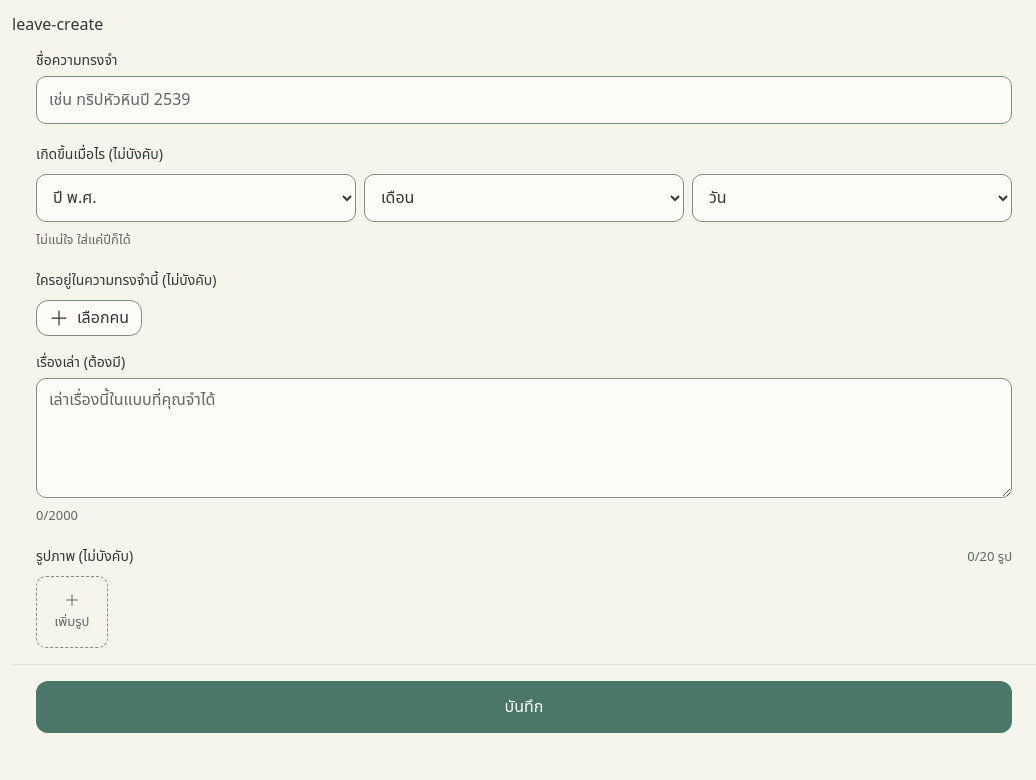
Test: CreateMemoryPage › shows required copy and does not save when title and story are empty
This screenshot has width=1036, height=780.
Expected: the field labelled "ชื่อความทรงจำ" is shown, [36,76,1012,124]
What coordinates should you click on to do the following:
click the button "บันทึก"
I would click on:
 (524, 707)
Its box is [36,681,1012,733].
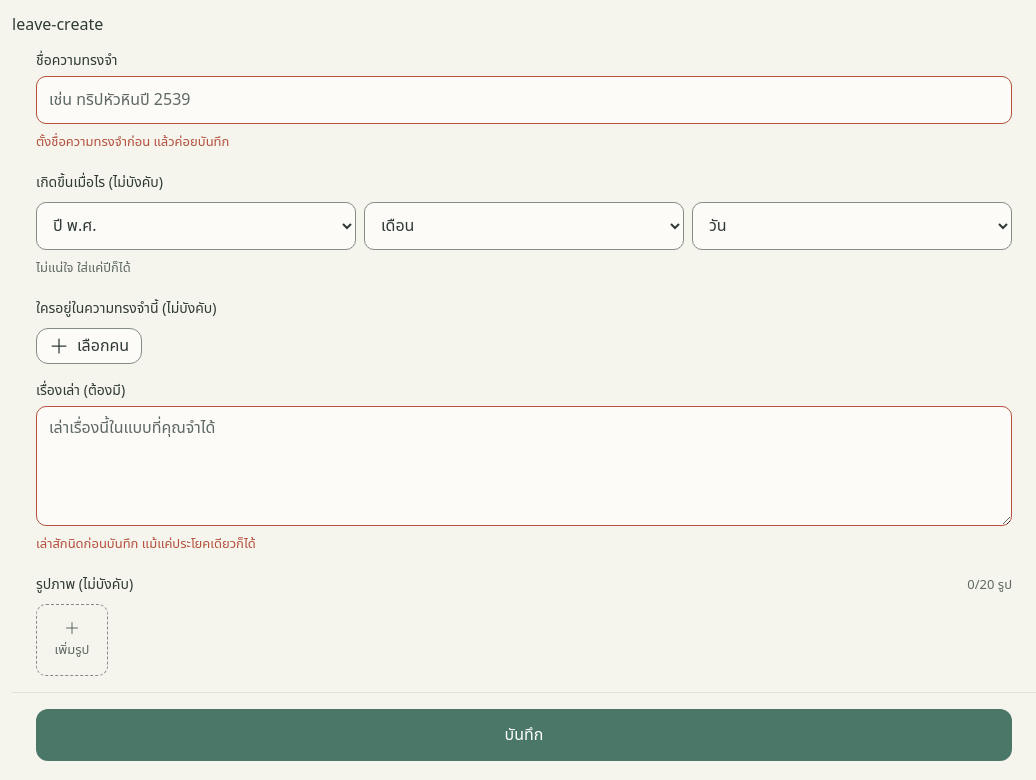
Expected: the text "ตั้งชื่อความทรงจำก่อน แล้วค่อยบันทึก" is shown, [36,132,229,152]
Expected: the text "เล่าสักนิดก่อนบันทึก แม้แค่ประโยคเดียวก็ได้" is shown, [36,534,256,554]
